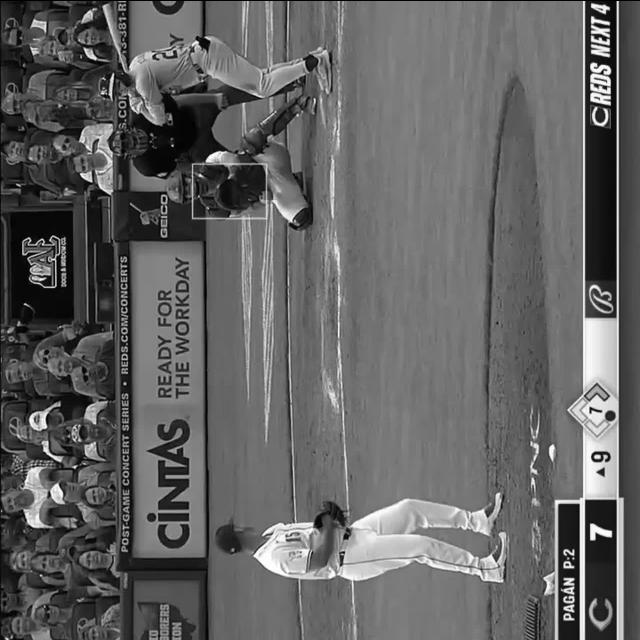base: (327, 154, 339, 222)
baseball_glove: (216, 172, 248, 210), (314, 496, 346, 528)
bat: (100, 2, 126, 68)
shoe: (477, 486, 508, 535), (308, 48, 334, 94), (486, 528, 508, 578)
